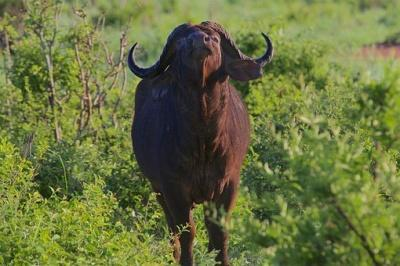buffalo: (127, 21, 273, 265)
